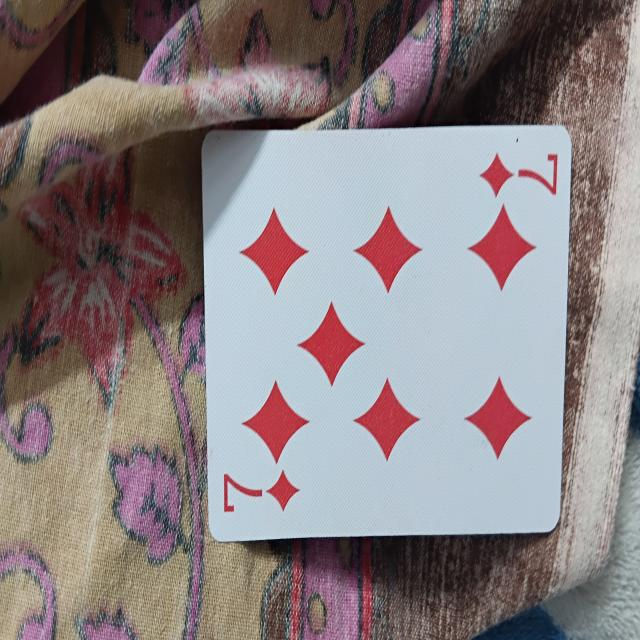7D: (204, 114, 571, 548)
